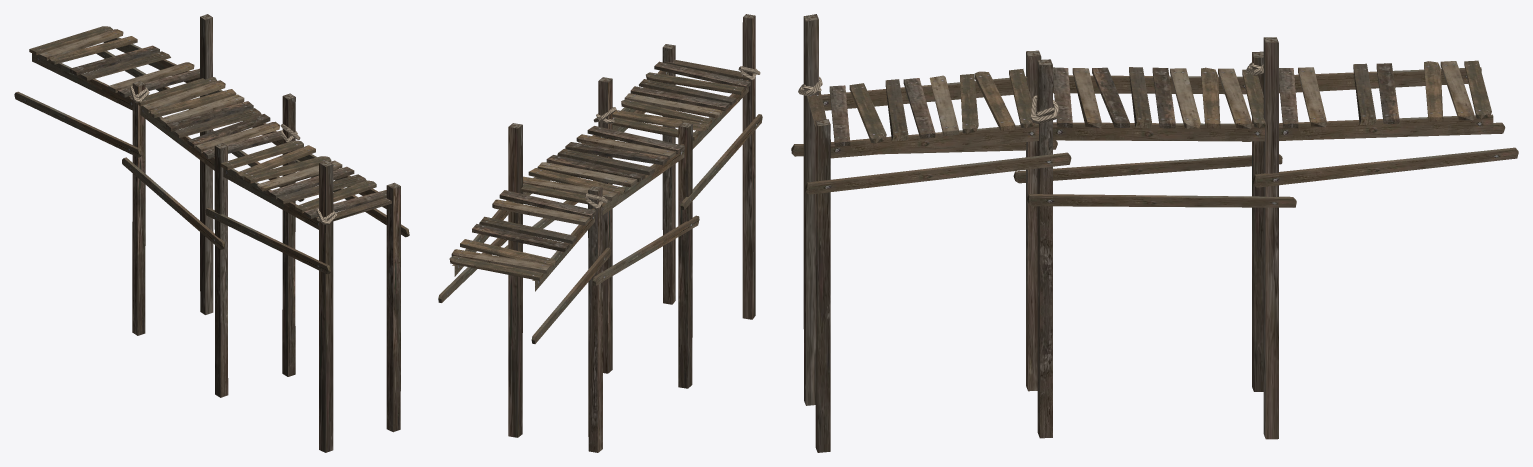
Rendered from swamp_a-close.glb.
3 renders of one model, left to right at view 1: azimuth 30°, elevation 25°; view 2: azimuth 150°, elevation 25°; view 3: azimuth 270°, elevation 25°, orthographic. The views are drawn at different scales.
Parts seen in each view (by area): view 1: wooden_walkway_900_LOD0; view 2: wooden_walkway_900_LOD0; view 3: wooden_walkway_900_LOD0.
Boxes of the visible parts, bbox=[...] form: wooden_walkway_900_LOD0: bbox=[14, 14, 409, 452]; wooden_walkway_900_LOD0: bbox=[438, 14, 762, 452]; wooden_walkway_900_LOD0: bbox=[791, 14, 1518, 452].
Bounding box in the file's own units: 2.8 × 5.84 × 9.72.
Materials: 2 (2 with a texture image).
